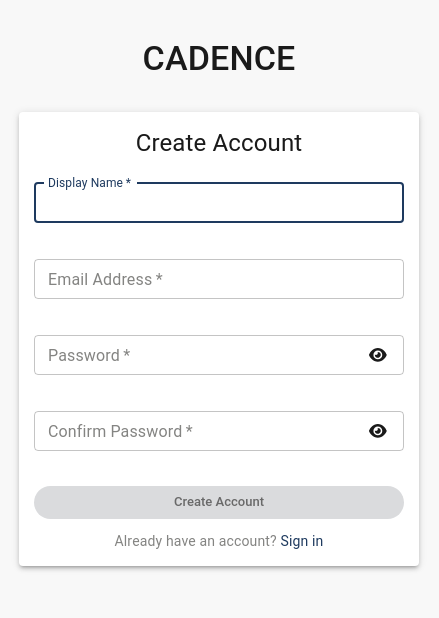
RegisterPage › shows error message when registration fails
Expected: the heading "Create Account" is shown, [136, 129, 302, 157]
Fill in valid form data
Type "Test User" into the field labelled "Display Name *" at (219, 203), box [34, 183, 404, 223]
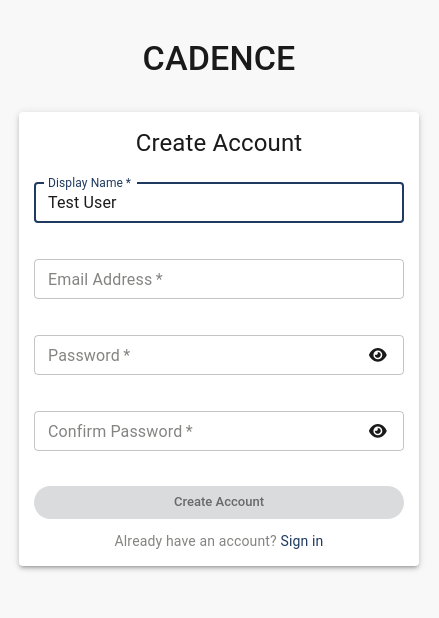
Type "existing@example.com" into the field labelled "Email Address *" at (219, 279), box [34, 259, 404, 299]
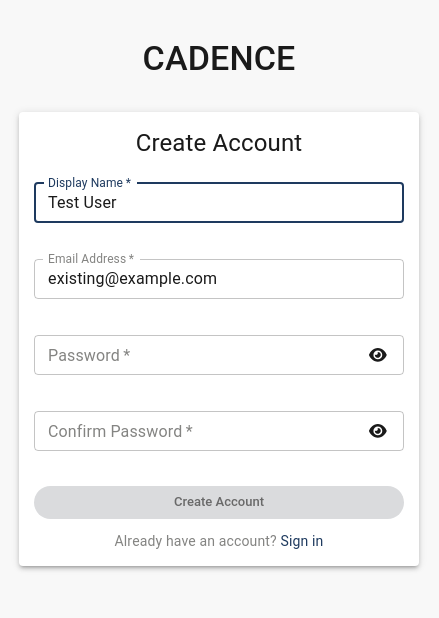
Type "Password123!" into the password field labelled "Password *" at (195, 355), box [34, 335, 355, 375]
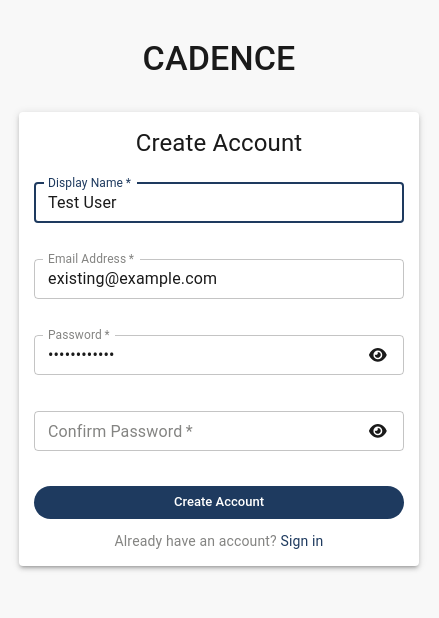
Type "Password123!" into the password field labelled "Confirm Password *" at (195, 430), box [34, 410, 355, 450]
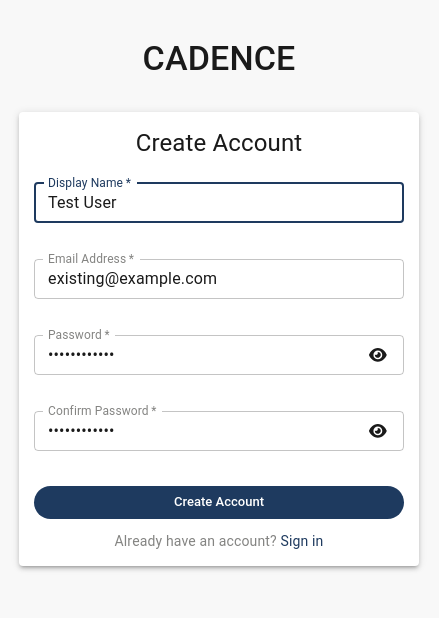
Submit form
Click the button "Create Account" at (219, 503), box [34, 486, 404, 519]
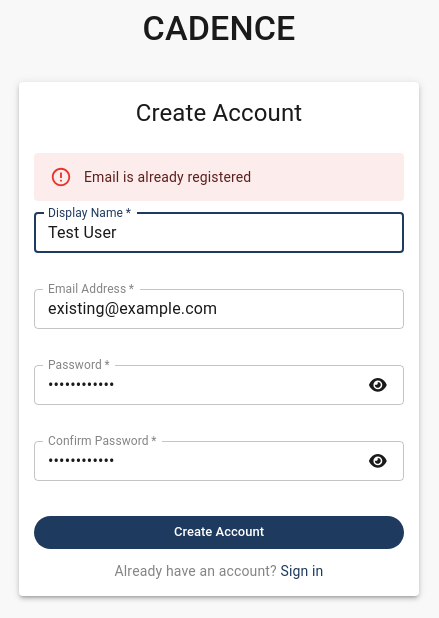
Now the text "Email is already registered" is shown, box [84, 169, 251, 185]
